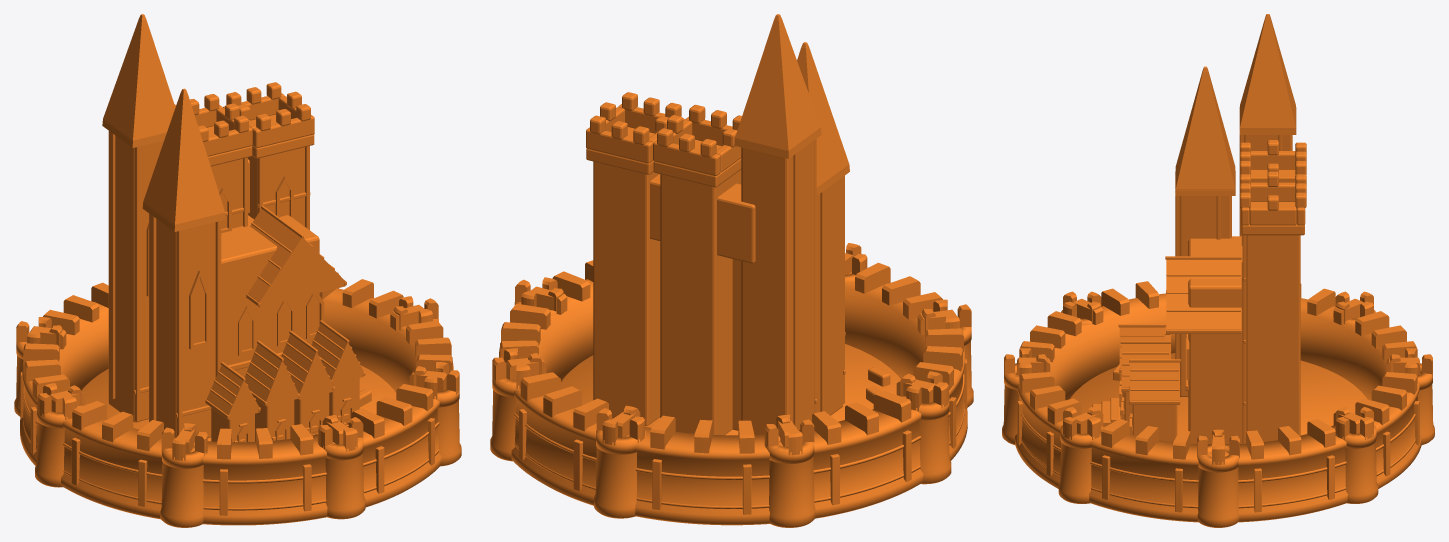
The model's file is metropolis-with-wall-orange.fbx.
The picture shows the model from 3 angles, left to right: view 1: azimuth 30°, elevation 25°; view 2: azimuth 150°, elevation 25°; view 3: azimuth 270°, elevation 25°; orthographic projection. The views are drawn at different scales.
Visible parts, largest first — view 1: Combined_Metropolis_Body, Combined_Independent_City_Wall; view 2: Combined_Metropolis_Body, Combined_Independent_City_Wall; view 3: Combined_Independent_City_Wall, Combined_Metropolis_Body.
Part boxes in pixels (x1=…): Combined_Metropolis_Body: x1=81, y1=14, x2=396, y2=442; Combined_Independent_City_Wall: x1=14, y1=272, x2=461, y2=527; Combined_Metropolis_Body: x1=561, y1=14, x2=901, y2=435; Combined_Independent_City_Wall: x1=490, y1=243, x2=973, y2=527; Combined_Independent_City_Wall: x1=1002, y1=281, x2=1434, y2=527; Combined_Metropolis_Body: x1=1068, y1=14, x2=1368, y2=444.
Bounding box in the file's own units: 0.024 × 0.024 × 0.024.
